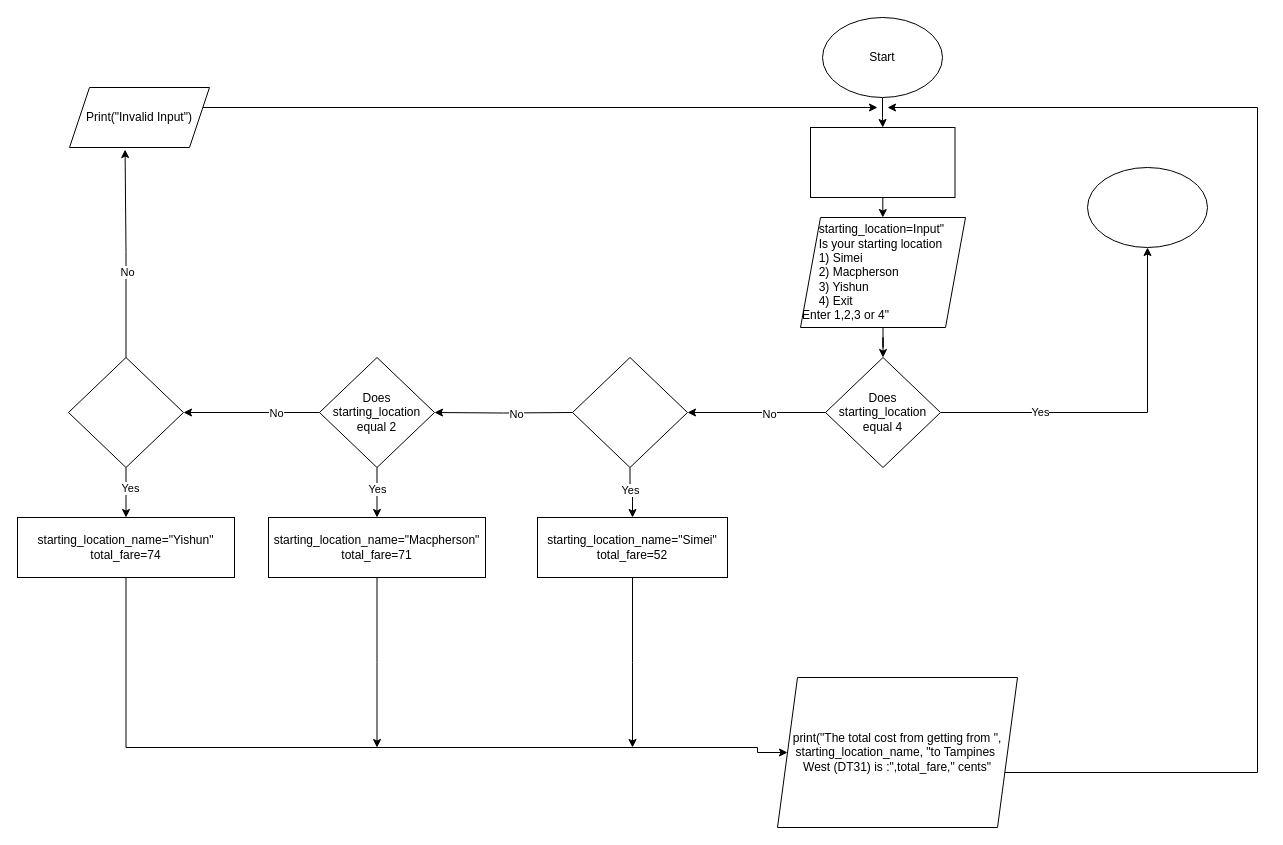
The diagram is 1283 pixels wide and 845 high, and some of its shapes have lost their labels. Here are the shapes that lost their labels. From the top down, the centre of each, then its label:
(x=882, y=162): starting_location=0 starting_location_name="" total_fare=0
(x=1147, y=207): Exit
(x=126, y=412): Does starting_location equal 3
(x=630, y=412): Does starting_location equal 1
